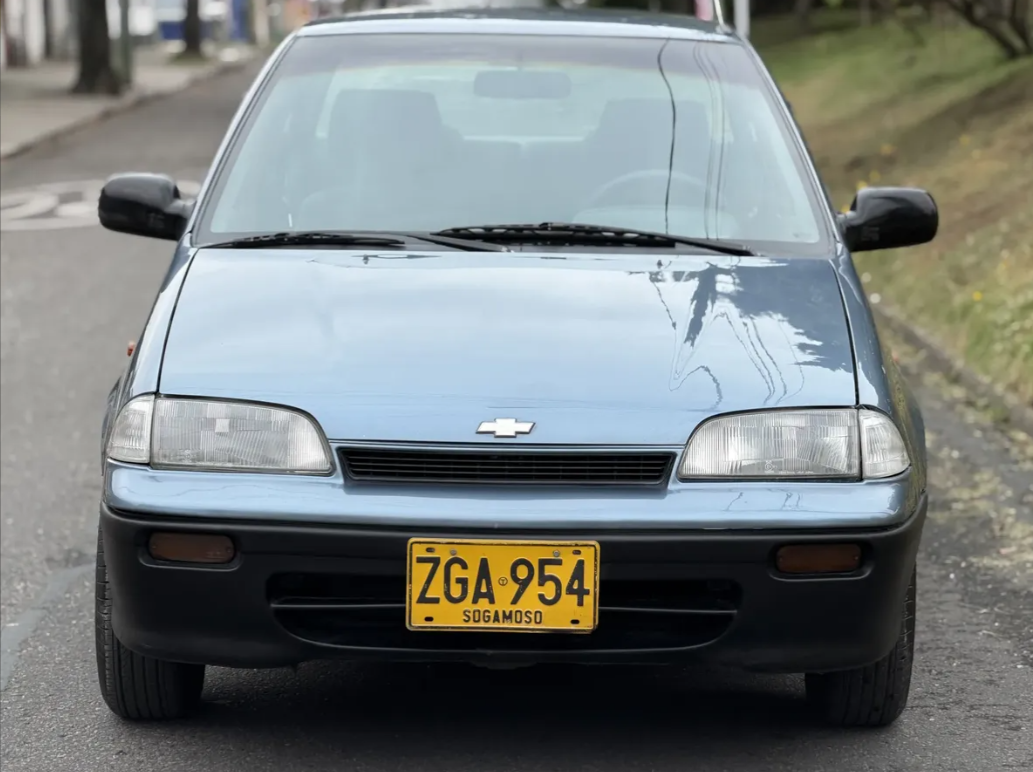placa: (406, 534, 598, 636)
